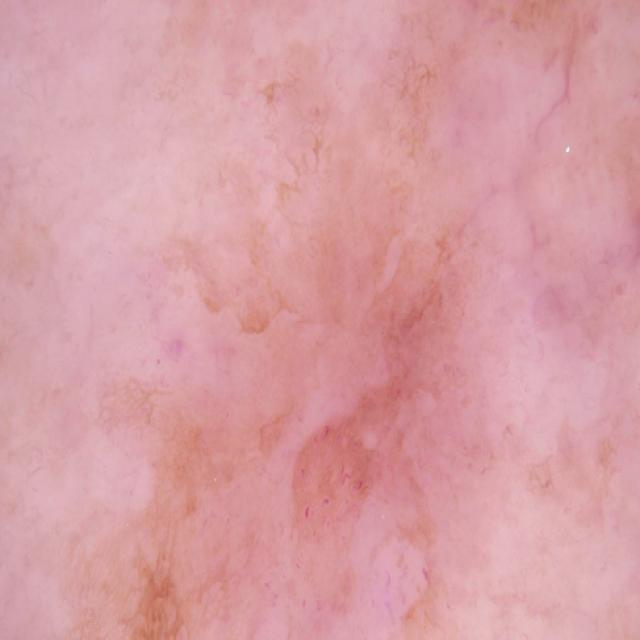Dermatofibroma: (251, 208, 494, 597), (502, 72, 640, 338), (65, 475, 243, 640)
